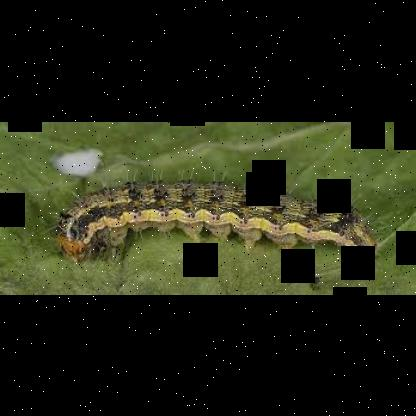oruga: (42, 176, 376, 260)
